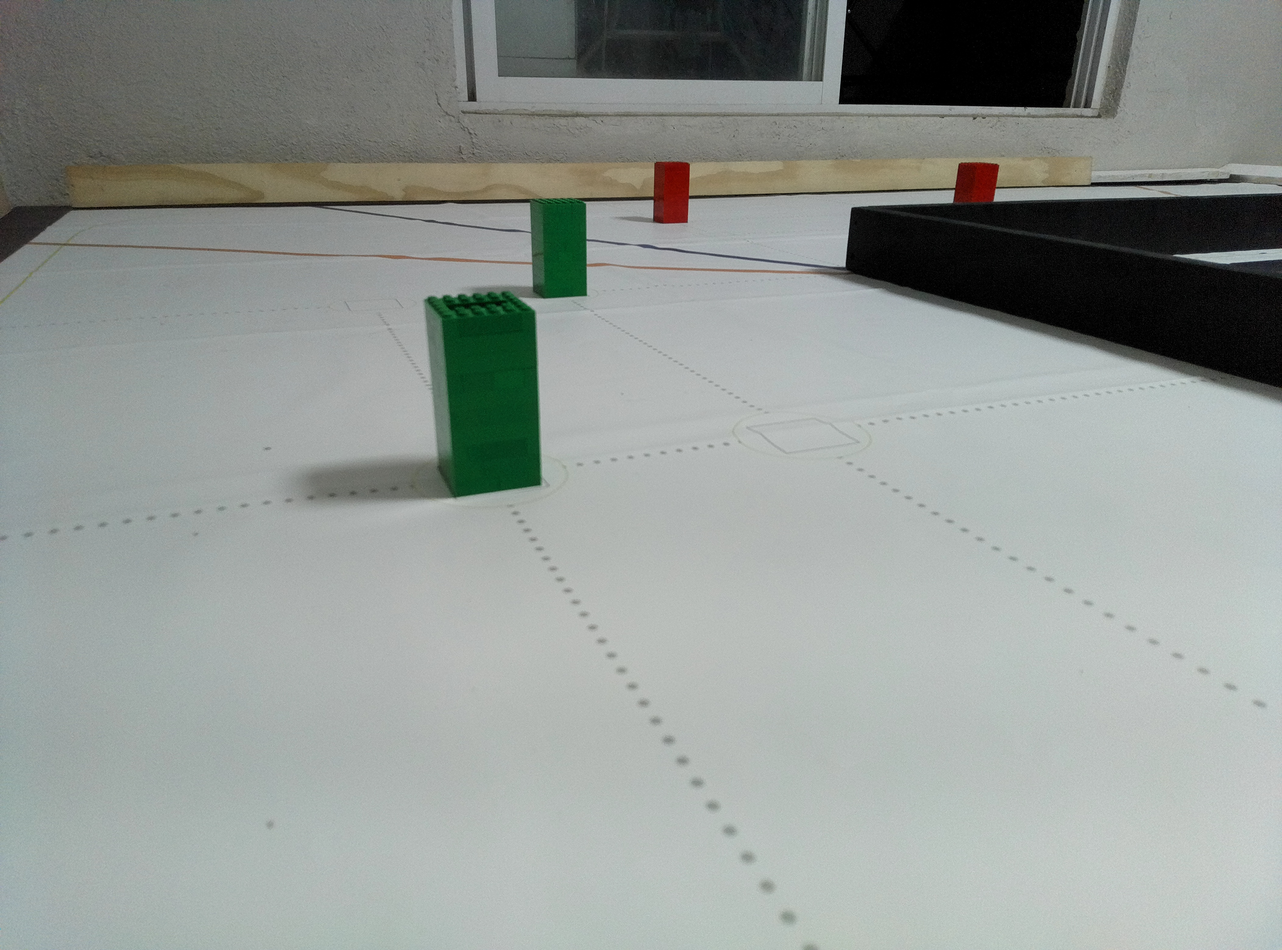greenbox: (420, 289, 543, 498), (529, 197, 588, 298)
redbox: (654, 160, 690, 224), (952, 163, 999, 203)
